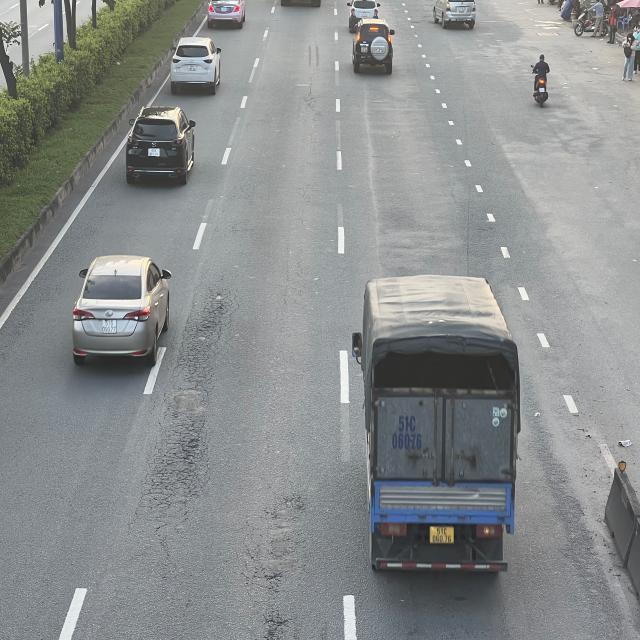car: (73, 254, 174, 365), (125, 106, 196, 187), (172, 36, 225, 94), (349, 18, 394, 74), (434, 0, 479, 27), (347, 0, 381, 26)
truck: (354, 274, 522, 577)
